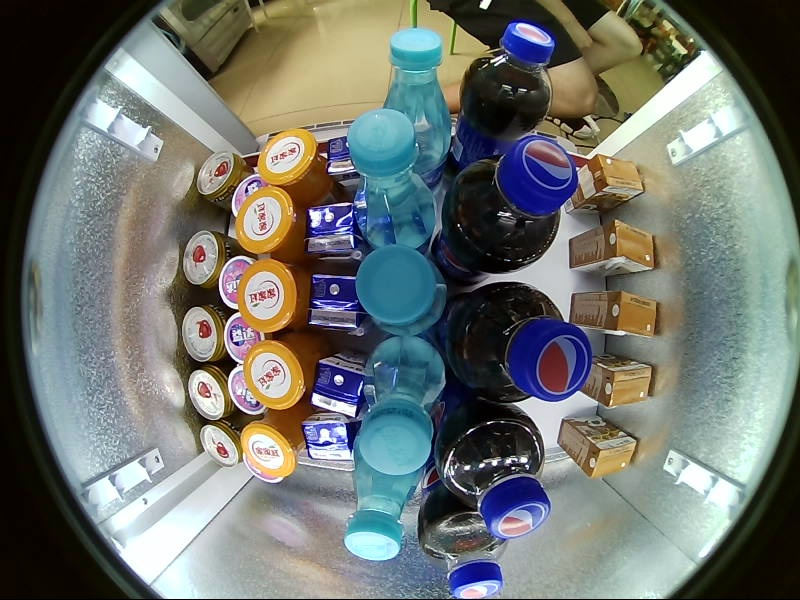ops-m063: (494, 355, 656, 496), (508, 149, 675, 281), (504, 65, 635, 212), (492, 419, 619, 566), (511, 285, 679, 383), (593, 189, 738, 283), (585, 368, 718, 462), (588, 284, 740, 355), (573, 106, 695, 194), (588, 436, 686, 533), (110, 232, 205, 306), (130, 387, 212, 461), (112, 311, 181, 383), (133, 143, 211, 204), (156, 467, 202, 526)
ops-m083: (165, 282, 312, 409), (108, 169, 268, 277), (159, 188, 291, 311), (187, 384, 306, 505), (191, 99, 294, 218), (208, 446, 306, 568), (613, 248, 745, 338), (100, 333, 262, 403), (610, 355, 735, 437), (620, 172, 726, 264), (98, 244, 202, 330), (629, 408, 707, 506), (115, 384, 204, 467), (601, 100, 704, 165), (148, 454, 222, 530)
ops-m102: (467, 146, 618, 274), (409, 129, 536, 270), (403, 48, 515, 195), (490, 375, 606, 504), (389, 295, 504, 424), (387, 393, 494, 524), (554, 364, 681, 464), (514, 277, 627, 379), (496, 64, 595, 179), (544, 225, 702, 282), (100, 190, 216, 263), (128, 410, 215, 498), (95, 275, 204, 343), (99, 342, 191, 421), (597, 313, 697, 381), (125, 114, 219, 185), (564, 463, 650, 522), (424, 515, 502, 580), (507, 497, 587, 557), (624, 131, 679, 195)
ops-m103: (480, 349, 631, 485), (496, 165, 651, 281), (479, 44, 588, 202), (484, 411, 602, 551), (484, 281, 661, 365), (341, 104, 438, 253), (355, 334, 449, 477), (580, 375, 703, 477), (378, 26, 451, 189), (572, 104, 686, 206), (581, 184, 718, 261), (580, 324, 729, 393), (581, 259, 728, 325), (353, 242, 448, 333), (341, 468, 424, 562)
ops-m104: (230, 140, 309, 217), (335, 121, 405, 202), (317, 270, 388, 346), (220, 281, 301, 346), (314, 346, 388, 417), (330, 182, 397, 260), (228, 352, 293, 424), (305, 412, 374, 472), (225, 206, 285, 269), (241, 424, 296, 483), (178, 301, 225, 364), (184, 365, 232, 421), (180, 226, 222, 289), (192, 146, 242, 198), (193, 418, 238, 469)
ops-m129: (254, 326, 329, 393), (268, 180, 339, 248), (264, 244, 343, 305), (274, 119, 344, 187), (369, 315, 441, 380), (218, 391, 283, 461), (257, 383, 325, 447), (199, 330, 269, 392), (371, 380, 434, 446), (223, 119, 285, 186), (198, 192, 267, 251), (368, 163, 431, 225), (169, 382, 229, 442), (180, 135, 239, 193), (165, 190, 223, 247), (369, 109, 428, 165), (157, 333, 219, 386)
ops-m135: (173, 353, 334, 465), (171, 164, 320, 276), (124, 187, 279, 284), (213, 74, 329, 203), (205, 409, 318, 540), (156, 265, 314, 358), (123, 332, 275, 425), (277, 314, 397, 429), (293, 78, 400, 203), (292, 203, 410, 314), (115, 263, 269, 348), (297, 411, 396, 530), (156, 105, 254, 210), (147, 416, 265, 492), (287, 506, 379, 579)
ops-m137: (502, 186, 633, 286), (500, 92, 610, 205), (500, 372, 615, 477), (500, 295, 632, 384), (398, 365, 490, 490), (558, 147, 671, 245), (419, 168, 512, 283), (425, 80, 514, 192), (409, 279, 511, 376), (495, 440, 592, 541), (546, 424, 647, 518), (560, 247, 689, 317), (567, 314, 690, 387), (407, 462, 488, 559), (559, 387, 669, 457)
ops-m141: (421, 297, 485, 365), (431, 221, 495, 286), (308, 351, 368, 416), (305, 269, 364, 335), (414, 362, 480, 420), (542, 229, 593, 291), (528, 391, 582, 448), (300, 413, 355, 468), (430, 418, 490, 464), (532, 343, 580, 395), (536, 287, 581, 340), (323, 129, 362, 185)
ops-m147: (346, 161, 424, 254), (322, 254, 409, 337), (329, 339, 414, 417), (465, 233, 547, 312), (327, 416, 405, 497), (456, 313, 535, 390), (255, 123, 330, 201), (471, 160, 546, 233), (450, 393, 536, 456), (232, 258, 304, 333), (242, 336, 315, 409), (233, 184, 301, 257), (347, 98, 422, 161), (472, 102, 547, 160), (238, 413, 300, 479)
ops-m148: (430, 133, 577, 283), (437, 286, 594, 405), (440, 17, 556, 169), (131, 93, 264, 217), (432, 406, 552, 542), (531, 87, 677, 194), (560, 355, 704, 460), (547, 191, 716, 280), (124, 389, 254, 493), (100, 166, 239, 261), (88, 247, 241, 331), (94, 326, 232, 417), (413, 466, 507, 596), (599, 277, 722, 370), (610, 447, 688, 520)
ops-m149: (282, 126, 370, 205), (275, 374, 367, 448), (270, 176, 364, 248), (268, 317, 366, 379), (536, 148, 624, 216), (267, 237, 365, 296), (549, 354, 628, 421), (174, 146, 260, 206), (546, 413, 618, 484), (171, 394, 246, 456), (210, 138, 278, 206), (548, 300, 640, 350), (150, 274, 236, 327), (194, 336, 265, 396), (155, 339, 220, 401), (200, 259, 279, 309), (201, 207, 270, 259), (567, 205, 637, 256), (198, 391, 261, 436), (152, 212, 209, 261)
ops-m150: (242, 148, 340, 221), (551, 407, 643, 478), (175, 344, 272, 410), (558, 147, 645, 219), (227, 224, 329, 279), (562, 286, 656, 343), (565, 220, 661, 275), (226, 379, 321, 431), (575, 342, 655, 403), (227, 286, 319, 337), (178, 152, 251, 215), (235, 333, 318, 384), (166, 290, 227, 336), (194, 419, 252, 467), (169, 226, 228, 272)
ops-m151: (313, 377, 398, 455), (483, 348, 584, 413), (480, 420, 564, 497), (415, 385, 495, 462), (320, 237, 410, 302), (419, 311, 507, 376), (476, 286, 572, 344), (314, 310, 404, 370), (487, 219, 580, 273), (424, 205, 507, 265), (315, 442, 388, 499), (421, 461, 494, 509)
ops-m152: (478, 147, 645, 277), (399, 112, 529, 274), (475, 64, 619, 209), (453, 410, 580, 574), (269, 347, 401, 504), (282, 110, 407, 275), (472, 357, 625, 484), (319, 22, 413, 196), (402, 35, 511, 184), (404, 383, 522, 518), (406, 436, 507, 592), (242, 266, 394, 368), (321, 420, 408, 593), (480, 274, 661, 357), (548, 404, 670, 525), (397, 278, 536, 382), (566, 132, 700, 230), (560, 367, 699, 454), (579, 215, 712, 297), (569, 296, 715, 367)
ops-m154: (473, 212, 598, 298), (154, 333, 268, 421), (479, 321, 574, 422), (163, 163, 269, 253), (322, 91, 406, 204), (311, 186, 404, 287), (236, 160, 339, 250), (543, 226, 668, 300), (217, 350, 321, 436), (152, 252, 265, 331), (312, 364, 402, 463), (549, 381, 661, 458), (475, 408, 568, 500), (186, 390, 269, 493), (303, 288, 404, 372), (407, 173, 488, 277), (189, 84, 279, 176), (241, 108, 336, 195), (224, 252, 336, 325), (242, 416, 323, 513), (308, 447, 389, 543), (398, 285, 486, 369), (397, 370, 481, 458), (504, 93, 580, 190), (397, 103, 476, 192), (390, 438, 462, 533), (138, 119, 217, 196), (114, 256, 200, 325), (113, 333, 193, 405), (117, 192, 199, 261), (495, 475, 562, 547), (135, 396, 197, 468), (613, 313, 674, 379), (587, 448, 638, 515), (598, 140, 655, 198)
ops-m155: (321, 300, 476, 490), (259, 288, 412, 480), (258, 109, 412, 291), (329, 115, 477, 301), (430, 300, 566, 486), (444, 121, 576, 304), (213, 116, 333, 285), (202, 299, 317, 474)
ops-m156: (402, 194, 470, 258), (401, 268, 467, 332), (294, 138, 347, 215), (384, 331, 447, 394), (274, 311, 333, 374), (283, 226, 336, 290), (415, 135, 472, 194), (288, 380, 345, 436), (391, 394, 445, 441), (223, 310, 267, 364), (223, 364, 266, 418), (216, 252, 252, 313), (296, 438, 339, 487), (228, 170, 261, 217)
